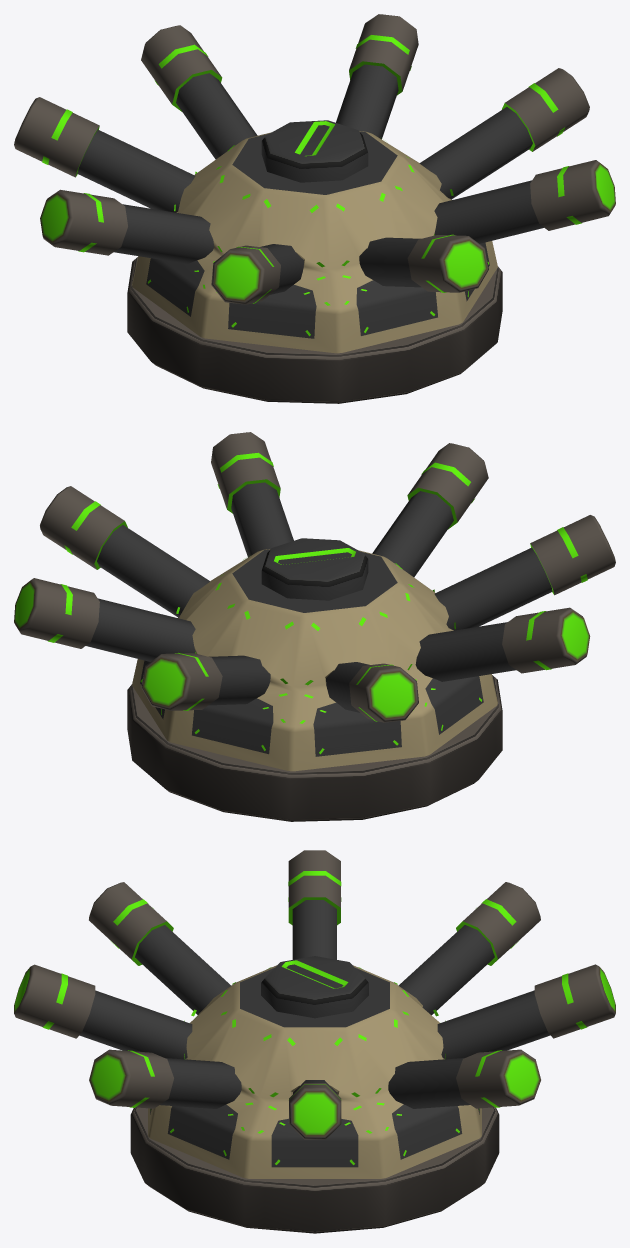
The model's file is RobotMine.fbx.
3 views of the same model, one above another, from view 1: azimuth 30°, elevation 25°; view 2: azimuth 150°, elevation 25°; view 3: azimuth 270°, elevation 25° (orthographic). The views are drawn at different scales.
Parts seen in each view (by area): view 1: robotMine; view 2: robotMine; view 3: robotMine.
Boxes of the visible parts, <box> form: robotMine: <box>14,14,615,403</box>; robotMine: <box>14,432,615,821</box>; robotMine: <box>14,850,615,1233</box>.
Size of the model in its own units: 0.4675 by 0.162 by 0.4675.
1 material, 1 textured.
